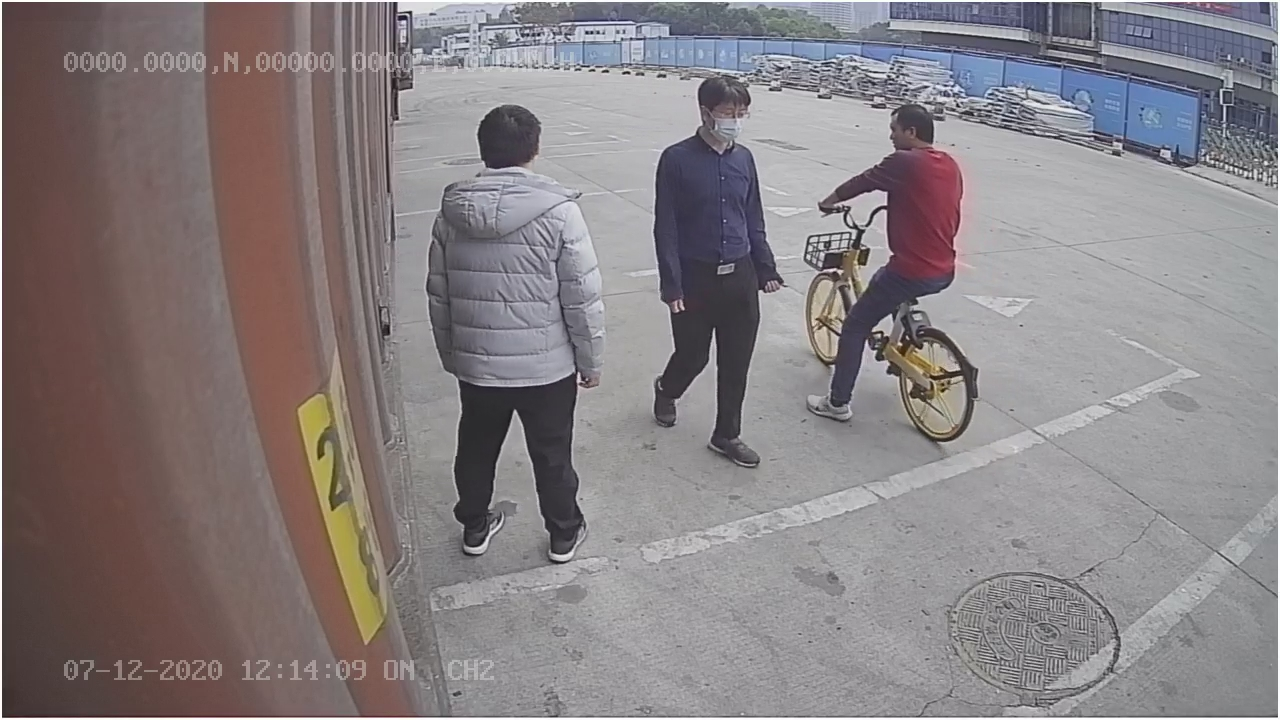person: (652, 70, 786, 470)
